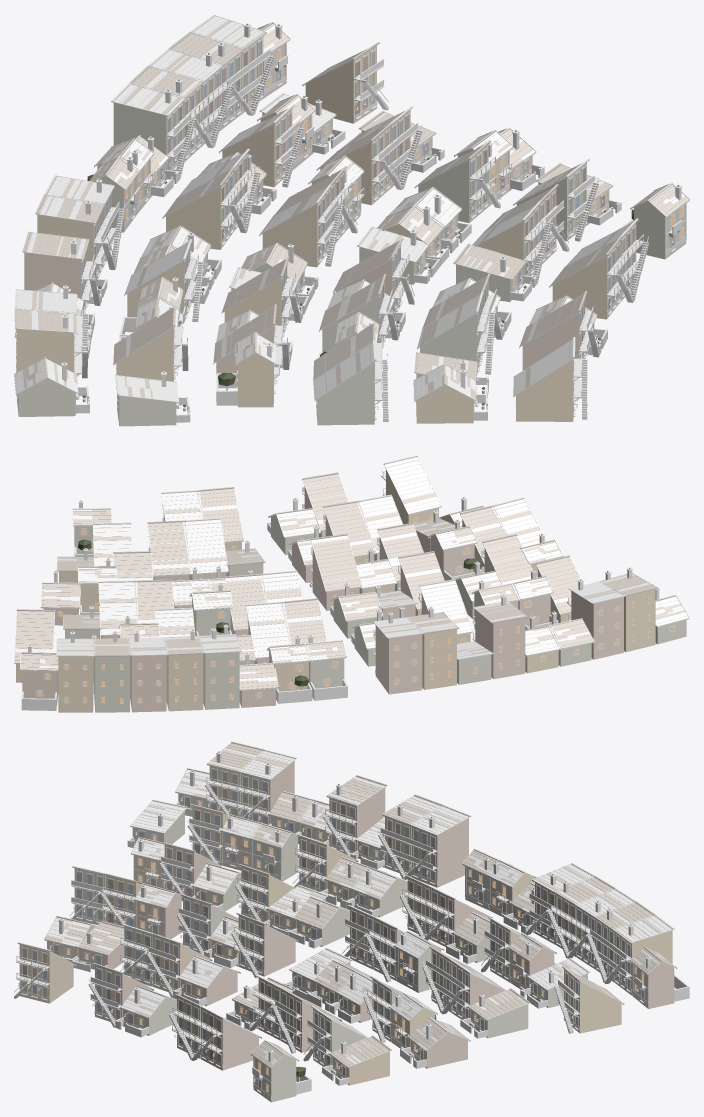
The model's file is moradas_NO.glb.
3 views of the same model, one above another, from view 1: azimuth 30°, elevation 25°; view 2: azimuth 150°, elevation 25°; view 3: azimuth 270°, elevation 25° (orthographic). The views are drawn at different scales.
Visible parts, largest first — view 1: Morada_NO_006_Body, Morada_NO_028_Body, Morada_NO_041_Body, Morada_NO_034_Body, Morada_NO_060_Body, Morada_NO_047_Body, Morada_NO_003_Body, Morada_NO_040_Body, Morada_NO_044_Body, Morada_NO_067_Body, Morada_NO_071_Body, Morada_NO_019_Body (+88 smaller); view 2: Morada_NO_064_Body, Morada_NO_067_Body, Morada_NO_070_Body, Morada_NO_009_Roof, Morada_NO_059_Body, Morada_NO_023_Roof, Morada_NO_010_Roof, Morada_NO_060_Body, Morada_NO_058_Body, Morada_NO_056_Body, Morada_NO_057_Body, Morada_NO_006_Roof (+82 smaller); view 3: Morada_NO_064_Body, Morada_NO_041_Body, Morada_NO_023_Body, Morada_NO_002_Body, Morada_NO_006_Body, Morada_NO_001_Body, Morada_NO_067_Body, Morada_NO_055_Body, Morada_NO_070_Body, Morada_NO_017_Body, Morada_NO_051_Body, Morada_NO_056_Body (+94 smaller).
Part boxes in pixels (left/top/right/bottom): Morada_NO_006_Body: left=515, top=351, right=587, bottom=421; Morada_NO_028_Body: left=316, top=354, right=388, bottom=425; Morada_NO_041_Body: left=305, top=45, right=388, bottom=123; Morada_NO_034_Body: left=262, top=188, right=342, bottom=267; Morada_NO_060_Body: left=113, top=102, right=195, bottom=180; Morada_NO_047_Body: left=166, top=171, right=246, bottom=249; Morada_NO_003_Body: left=552, top=240, right=633, bottom=319; Morada_NO_040_Body: left=216, top=353, right=279, bottom=407; Morada_NO_044_Body: left=222, top=108, right=304, bottom=187; Morada_NO_067_Body: left=24, top=252, right=100, bottom=313; Morada_NO_071_Body: left=16, top=327, right=87, bottom=397; Morada_NO_019_Body: left=418, top=144, right=500, bottom=222; Morada_NO_064_Body: left=373, top=625, right=422, bottom=694; Morada_NO_067_Body: left=472, top=610, right=525, bottom=679; Morada_NO_070_Body: left=567, top=591, right=623, bottom=659; Morada_NO_009_Roof: left=147, top=520, right=191, bottom=576; Morada_NO_059_Body: left=166, top=654, right=203, bottom=711; Morada_NO_023_Roof: left=310, top=534, right=362, bottom=592; Morada_NO_010_Roof: left=182, top=518, right=228, bottom=574; Morada_NO_060_Body: left=203, top=652, right=239, bottom=709; Morada_NO_058_Body: left=130, top=655, right=166, bottom=712; Morada_NO_056_Body: left=58, top=656, right=93, bottom=712; Morada_NO_057_Body: left=94, top=656, right=129, bottom=712; Morada_NO_006_Roof: left=383, top=455, right=441, bottom=515; Morada_NO_064_Body: left=404, top=818, right=468, bottom=887; Morada_NO_041_Body: left=554, top=969, right=621, bottom=1033; Morada_NO_023_Body: left=231, top=915, right=295, bottom=978; Morada_NO_002_Body: left=192, top=1007, right=258, bottom=1070; Morada_NO_006_Body: left=14, top=944, right=73, bottom=1003; Morada_NO_001_Body: left=252, top=1055, right=311, bottom=1102; Morada_NO_067_Body: left=323, top=787, right=385, bottom=858; Morada_NO_055_Body: left=632, top=962, right=689, bottom=1008; Morada_NO_070_Body: left=237, top=761, right=294, bottom=824; Morada_NO_017_Body: left=400, top=1032, right=467, bottom=1068; Morada_NO_051_Body: left=252, top=833, right=299, bottom=881; Morada_NO_056_Body: left=605, top=930, right=672, bottom=995.
Size of what is drawn, in the model's own units: 116 by 17.3 by 116.
Materials: 22 (18 with a texture image).
